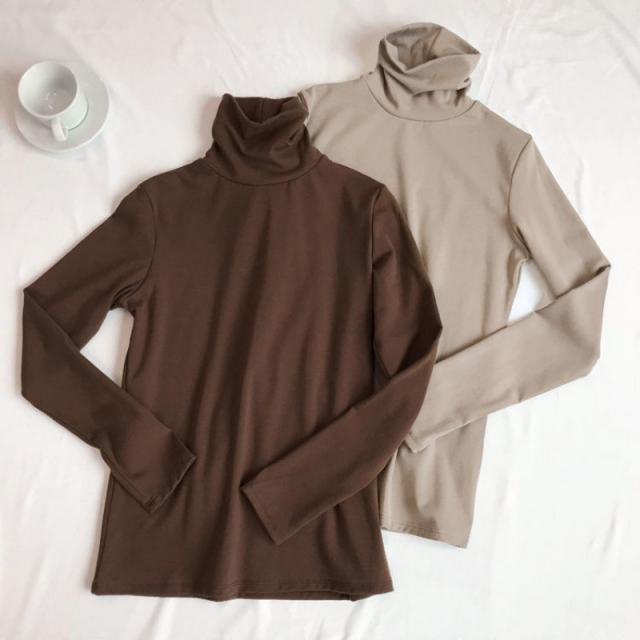Shirt: (20, 92, 438, 618)
